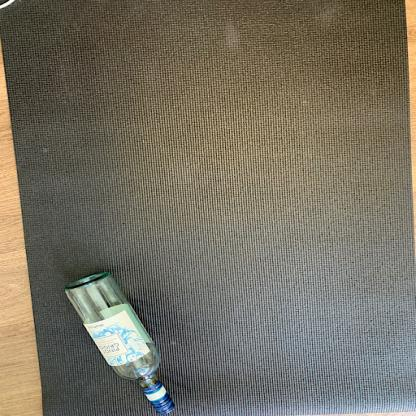trash: (64, 269, 180, 414)
